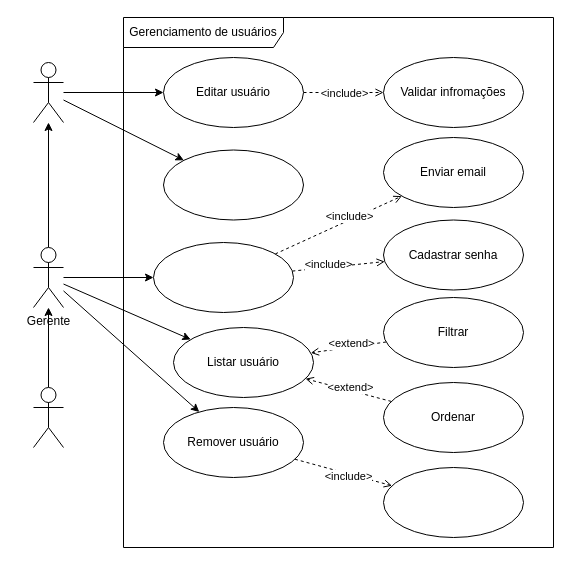
The diagram is 571 pixels wide and 565 high, and some of its shapes have lost their labels. The shapes that lost their labels are listed below. From the top down, each one's centre as x and y in pixels, then its label:
At pixel 48 92: "Funcionário".
At pixel 233 184: "Ver usuário".
At pixel 223 277: "Cadastrar usuário".
At pixel 48 417: "Admin".
At pixel 453 502: "Gravar registro".
